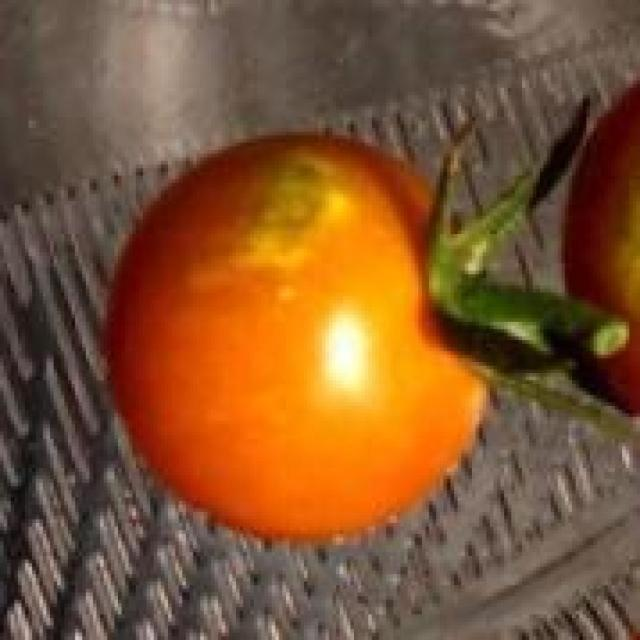Sunscald Fruit: (122, 96, 238, 213)
